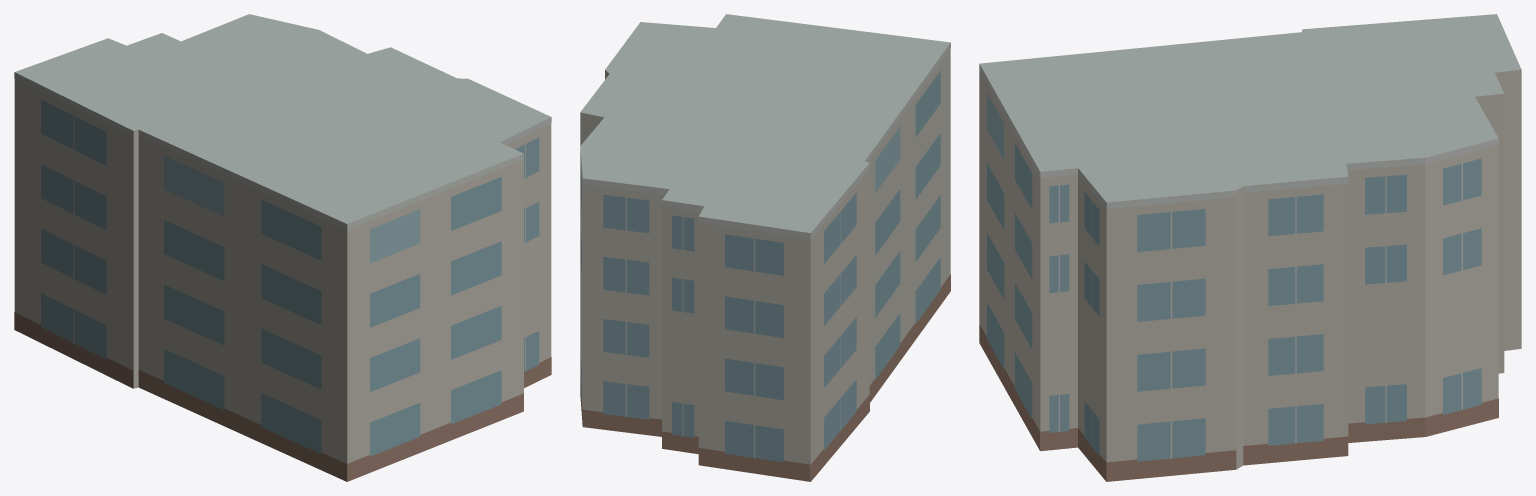
File: survey-upis-32973929.glb
3 views of the same model, side by side, from view 1: azimuth 30°, elevation 25°; view 2: azimuth 150°, elevation 25°; view 3: azimuth 270°, elevation 25° (orthographic). The views are drawn at different scales.
Parts seen in each view (by area): view 1: survey-upis-32973929.tmp; view 2: survey-upis-32973929.tmp; view 3: survey-upis-32973929.tmp.
Boxes of the visible parts, box(x1,y1,x2,y2) form: survey-upis-32973929.tmp: box(14, 14, 551, 481); survey-upis-32973929.tmp: box(580, 14, 950, 481); survey-upis-32973929.tmp: box(979, 14, 1521, 481).
Bounding box in the file's own units: 14.78 × 10.2 × 17.95.
